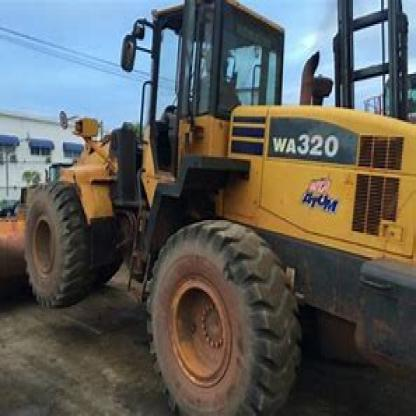bull_dozer/loader/grader: (1, 2, 414, 414)
